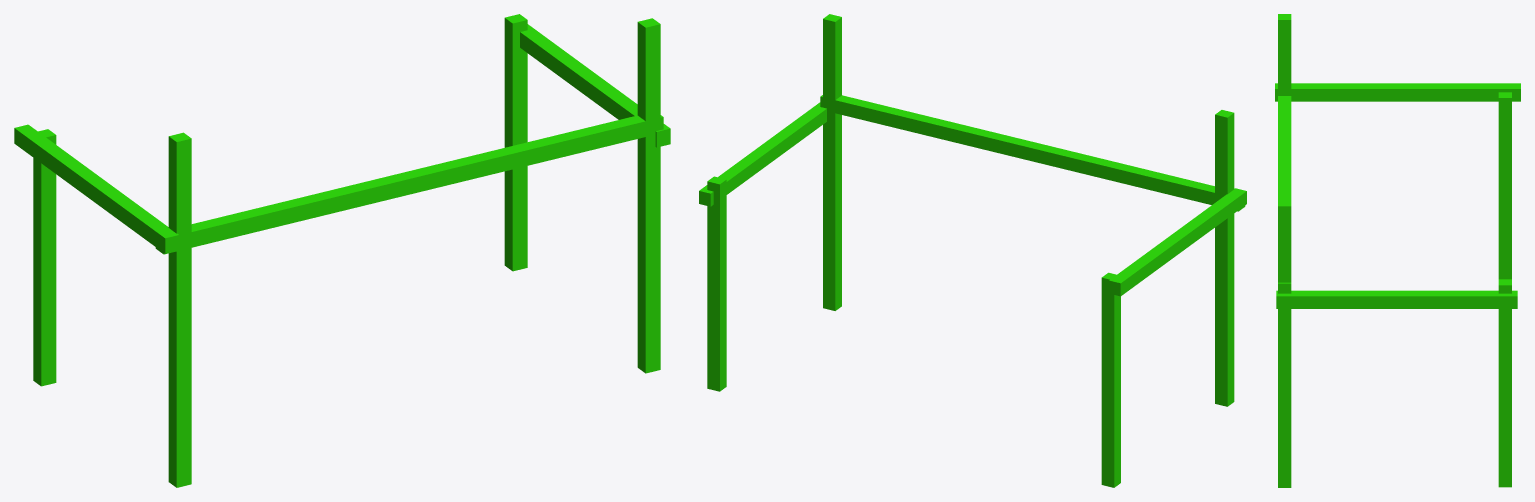
File: Hut_04_Collider.fbx
The picture shows the model from 3 angles, left to right: view 1: azimuth 30°, elevation 25°; view 2: azimuth 150°, elevation 25°; view 3: azimuth 270°, elevation 25°; orthographic projection. The views are drawn at different scales.
Visible parts, largest first — view 1: Hut_04_Collider; view 2: Hut_04_Collider; view 3: Hut_04_Collider.
Boxes of the visible parts, box(x1,y1,x2,y2) form: Hut_04_Collider: box(14, 14, 670, 487); Hut_04_Collider: box(699, 14, 1246, 487); Hut_04_Collider: box(1275, 14, 1520, 487).
Bounding box in the file's own units: 640 × 418 × 330.
